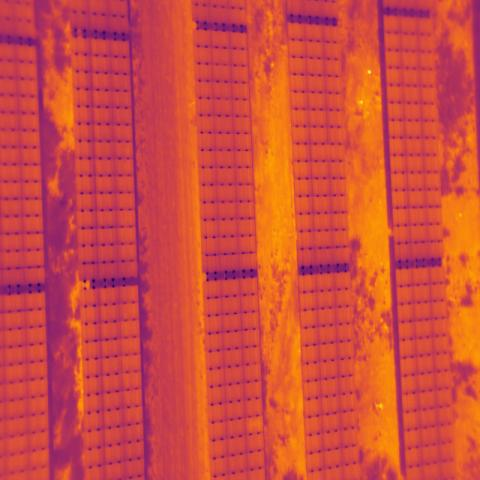fault: (245, 414, 263, 436)
